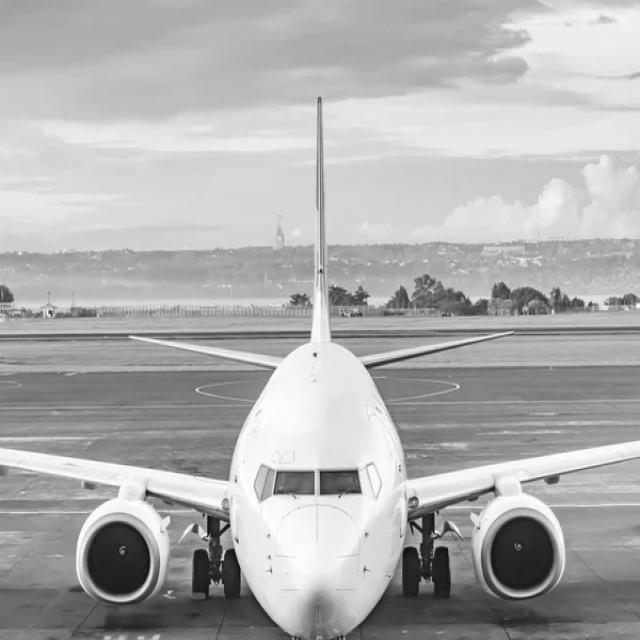Aircraft: (4, 90, 640, 625)
